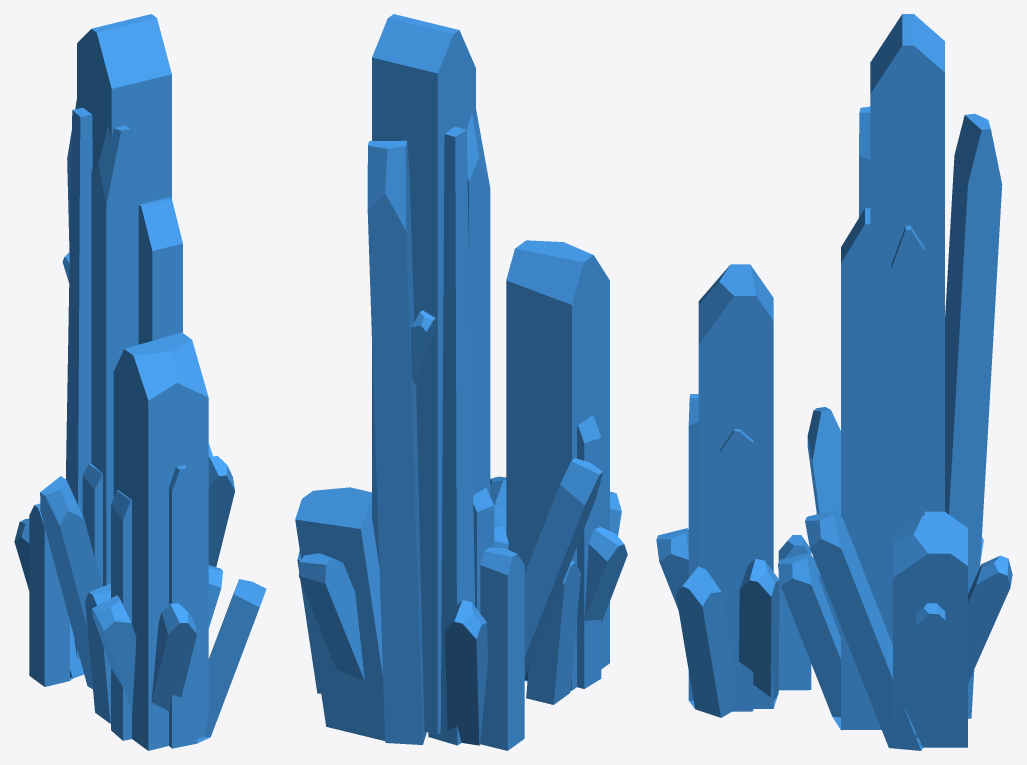
The model's file is Kristal_1.fbx.
3 renders of one model, left to right at view 1: azimuth 30°, elevation 25°; view 2: azimuth 150°, elevation 25°; view 3: azimuth 270°, elevation 25°, orthographic. The views are drawn at different scales.
Parts seen in each view (by area): view 1: Kristal; view 2: Kristal; view 3: Kristal.
Boxes of the visible parts, x1=… form: Kristal: x1=14, y1=14, x2=266, y2=750; Kristal: x1=295, y1=14, x2=627, y2=750; Kristal: x1=656, y1=14, x2=1012, y2=750.
Size of the model in its own units: 73.66 by 202 by 95.28.
